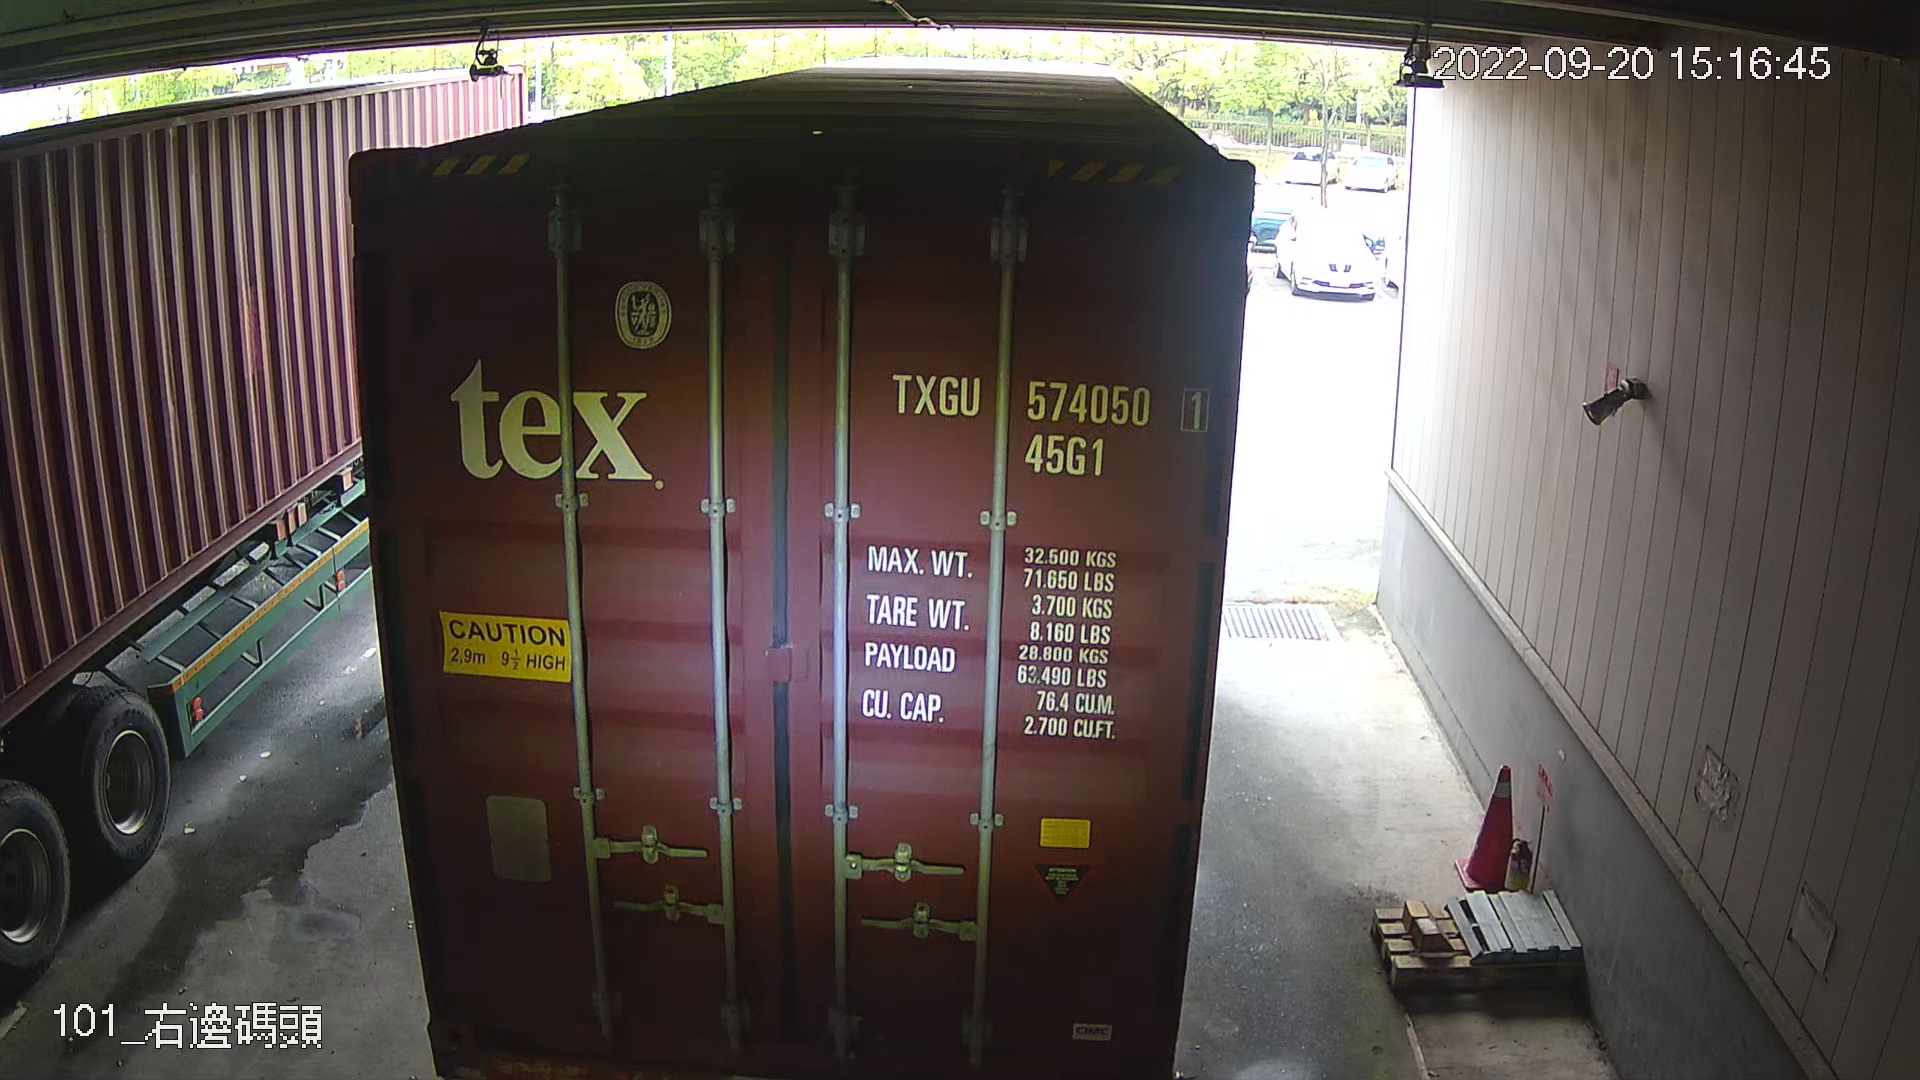container: (878, 363, 1220, 487)
